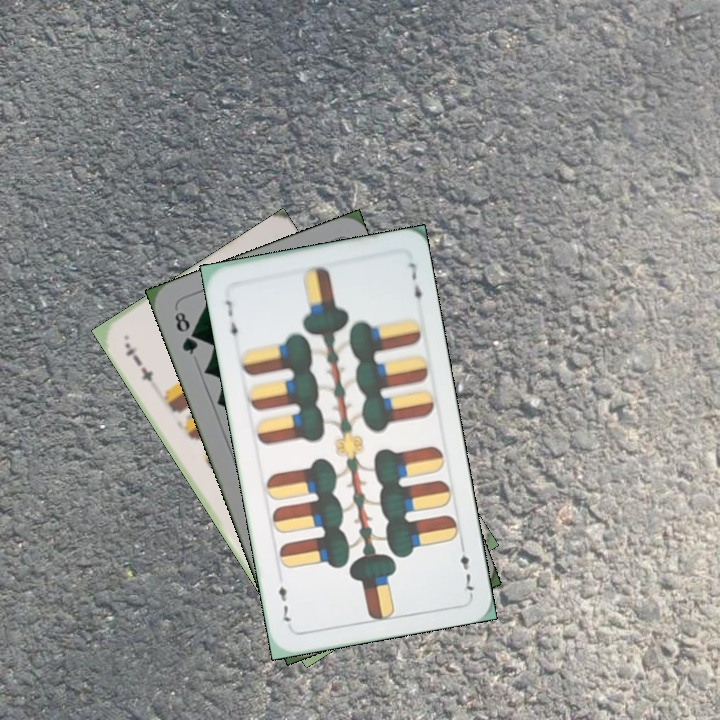E7: (120, 338, 156, 385), (221, 296, 241, 345), (456, 551, 476, 597)
G8: (170, 307, 201, 358)
